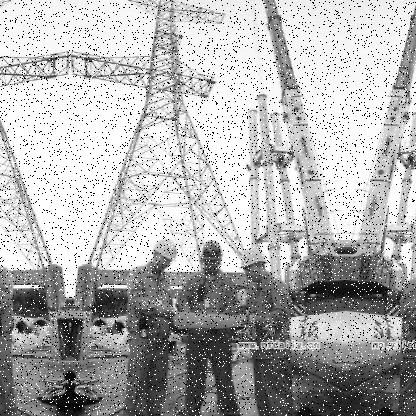Helmet: (144, 237, 180, 276), (200, 235, 228, 280), (245, 248, 270, 283)
